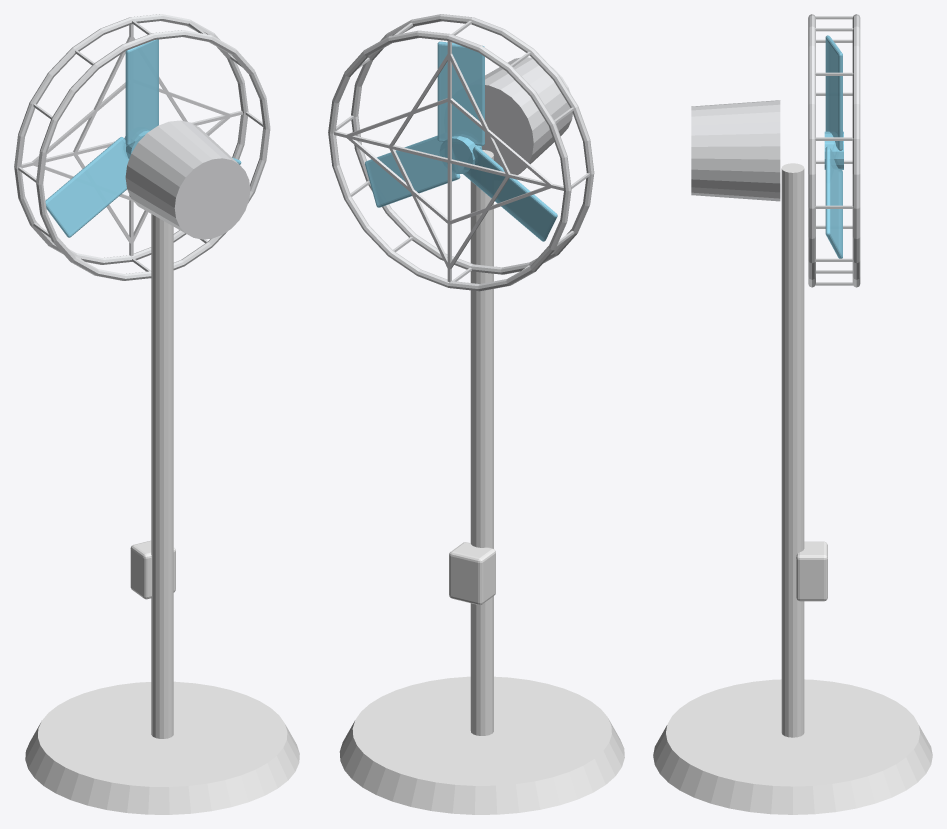
Rendered from s14-kipas-berdiri.glb.
3 renders of one model, left to right at view 1: azimuth 30°, elevation 25°; view 2: azimuth 150°, elevation 25°; view 3: azimuth 270°, elevation 25°, orthographic. The views are drawn at different scales.
Parts seen in each view (by area): view 1: EX_unri:kipas-badan, EX_unri:kipas-kepala, EX_unri:kipas-baling; view 2: EX_unri:kipas-badan, EX_unri:kipas-kepala, EX_unri:kipas-baling; view 3: EX_unri:kipas-badan, EX_unri:kipas-kepala, EX_unri:kipas-baling.
Boxes of the visible parts, box(x1,y1,x2,y2) form: EX_unri:kipas-badan: box(25, 214, 299, 814); EX_unri:kipas-kepala: box(14, 14, 270, 280); EX_unri:kipas-baling: box(45, 39, 241, 237); EX_unri:kipas-badan: box(339, 150, 624, 814); EX_unri:kipas-kepala: box(328, 14, 594, 291); EX_unri:kipas-baling: box(365, 41, 557, 241); EX_unri:kipas-badan: box(653, 163, 932, 814); EX_unri:kipas-kepala: box(691, 14, 860, 287); EX_unri:kipas-baling: box(824, 35, 843, 258).
Size of the model in its own units: 0.44 by 1.27 by 0.44.
